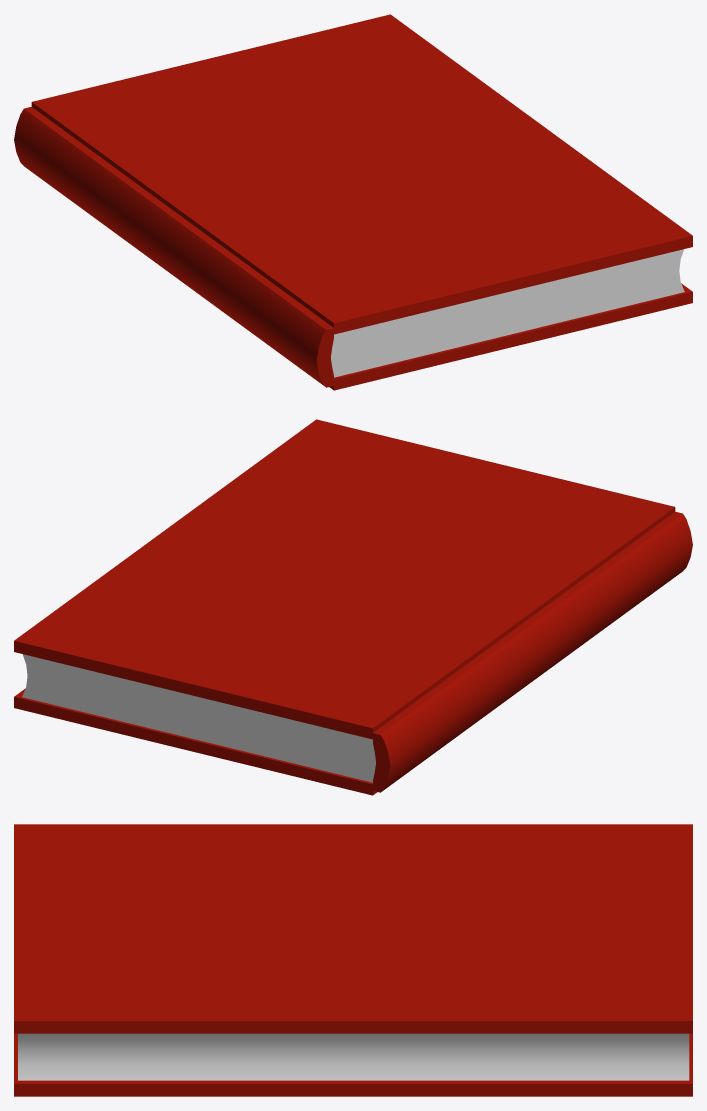
The model's file is RedBook.fbx.
The picture shows the model from 3 angles, top to bottom: view 1: azimuth 30°, elevation 25°; view 2: azimuth 150°, elevation 25°; view 3: azimuth 270°, elevation 25°; orthographic projection. The views are drawn at different scales.
Parts seen in each view (by area): view 1: pCube1, pCube1.001; view 2: pCube1, pCube1.001; view 3: pCube1, pCube1.001.
Boxes of the visible parts, bbox=[...] form: pCube1: bbox=[14, 14, 692, 390]; pCube1.001: bbox=[331, 249, 684, 377]; pCube1: bbox=[14, 419, 692, 795]; pCube1.001: bbox=[22, 654, 375, 782]; pCube1: bbox=[14, 824, 692, 1096]; pCube1.001: bbox=[18, 1033, 689, 1080].
Size of the model in its own units: 176 by 30 by 244.
